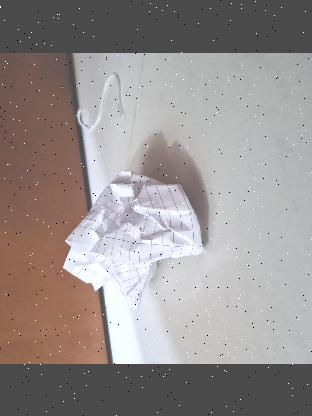Others: (64, 166, 208, 302)
